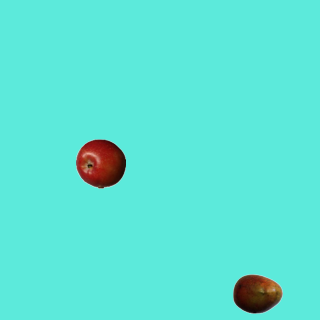Apple Braeburn: (75, 138, 125, 188)
Mango Red: (232, 268, 282, 318)
